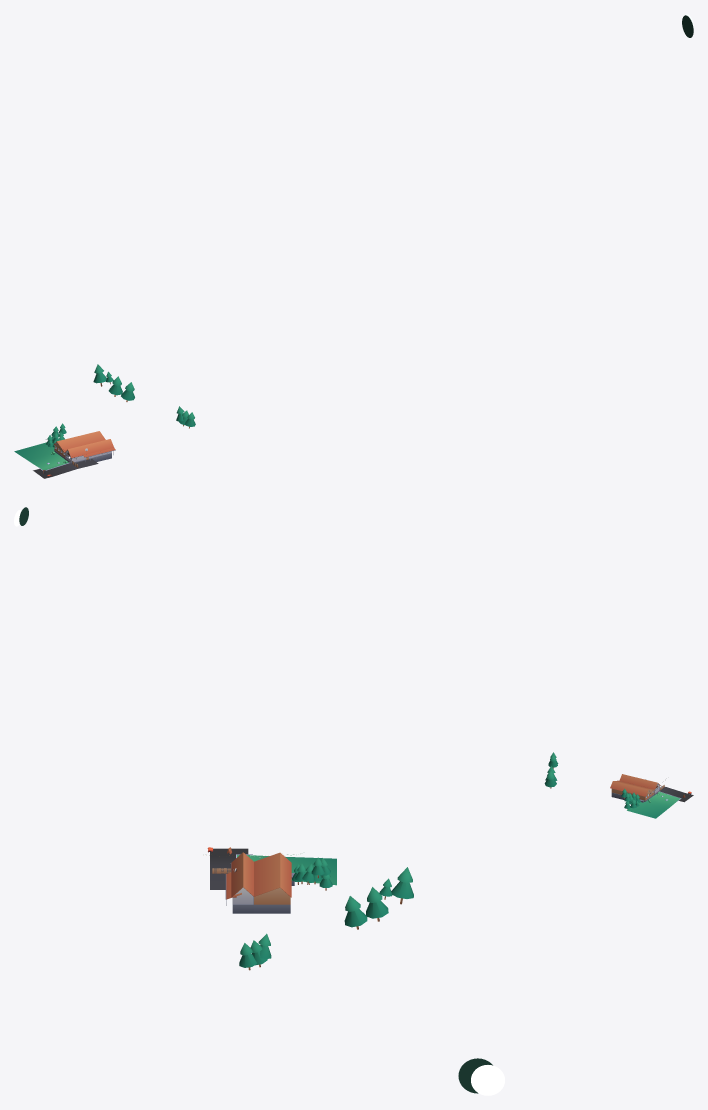
File: main_menu.glb
The picture shows the model from 3 angles, top to bottom: view 1: azimuth 30°, elevation 25°; view 2: azimuth 150°, elevation 25°; view 3: azimuth 270°, elevation 25°; orthographic projection. The views are drawn at different scales.
Visible parts, largest first — view 1: Plane.004; view 2: Plane.004; view 3: Cube.005, Plane.003, Circle, Cube.002, Cube.004, Plane.004, Circle.001, Cylinder.013, Cylinder.014, Cylinder.012, Cube.
Part boxes in pixels (x1,y1,x2,y2): Plane.004: (14, 442, 68, 469); Plane.004: (627, 792, 680, 818); Cube.005: (254, 852, 291, 897); Plane.003: (210, 848, 248, 889); Circle: (471, 1065, 504, 1095); Cube.002: (253, 888, 290, 913); Cube.004: (231, 852, 253, 897); Plane.004: (237, 855, 336, 885); Circle.001: (458, 1058, 492, 1093); Cylinder.013: (344, 896, 367, 929); Cylinder.014: (366, 887, 388, 921); Cylinder.012: (391, 867, 413, 904); Cube: (232, 887, 253, 913).
Bounding box in the file's own units: 284 × 85.98 × 61.34.
6 materials, 4 textured.
